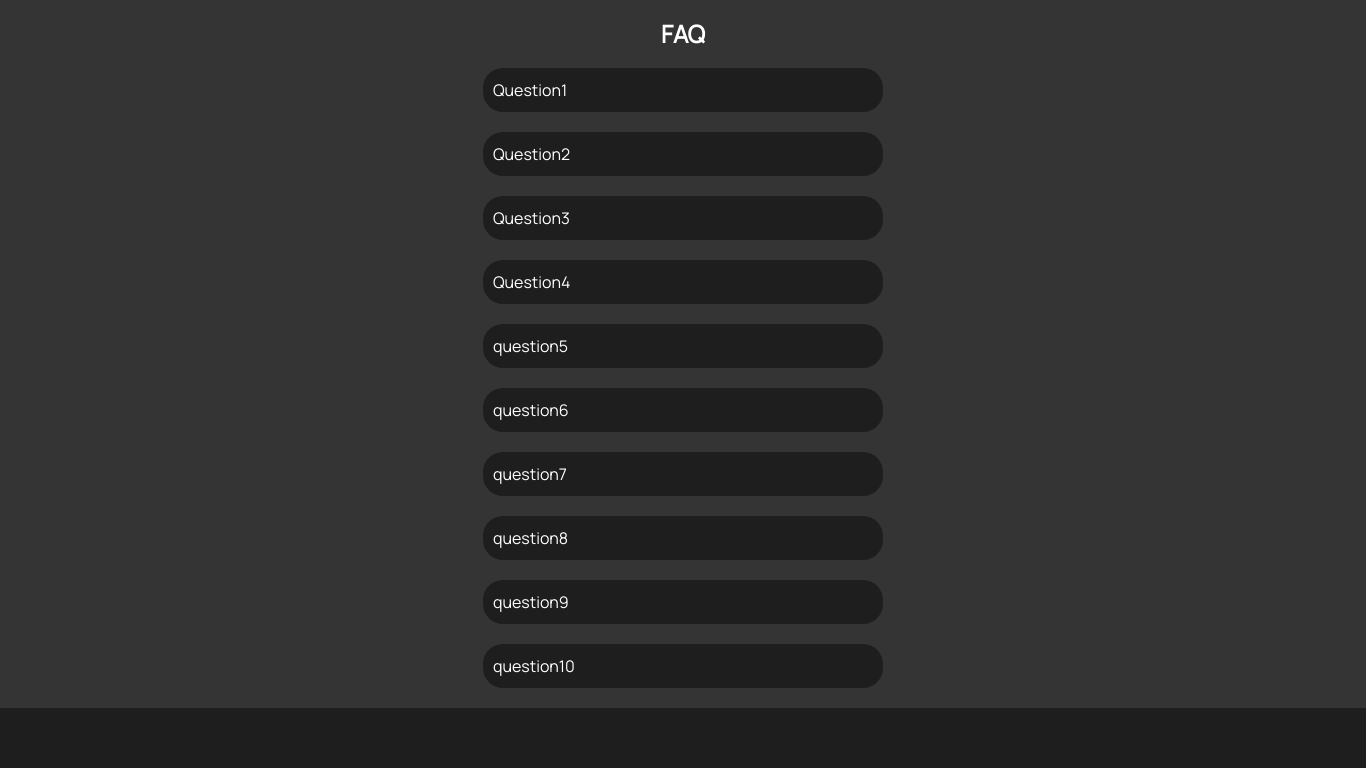
FAQ › toggles FAQ answers when clicking on questions
This screenshot has width=1366, height=768.
Check: the heading "FAQ" is shown, box [661,17,705,50]
Click the text "Question1" at (683, 90), box [483,68,883,112]
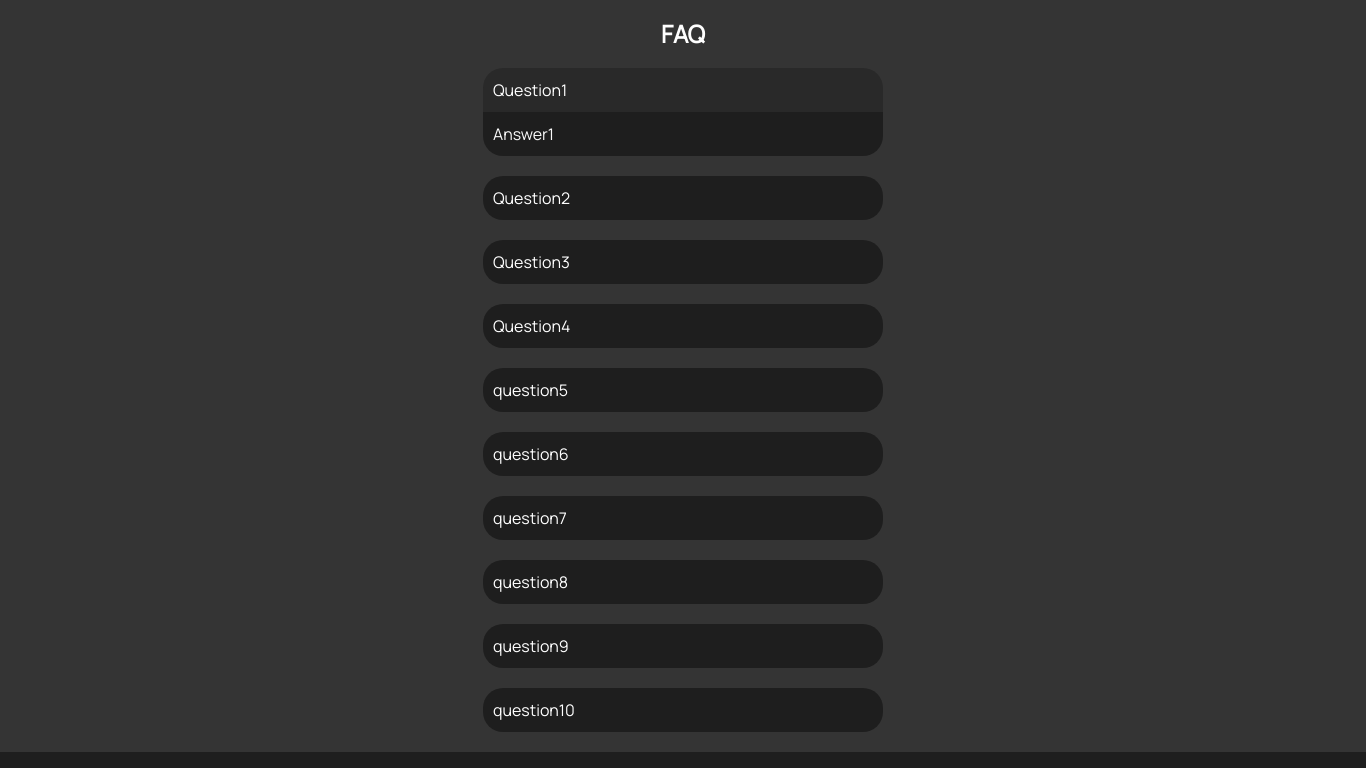
Check: the text "Answer1" is shown, box [493,123,554,145]
Click the text "Question2" at (683, 198), box [483,176,883,220]
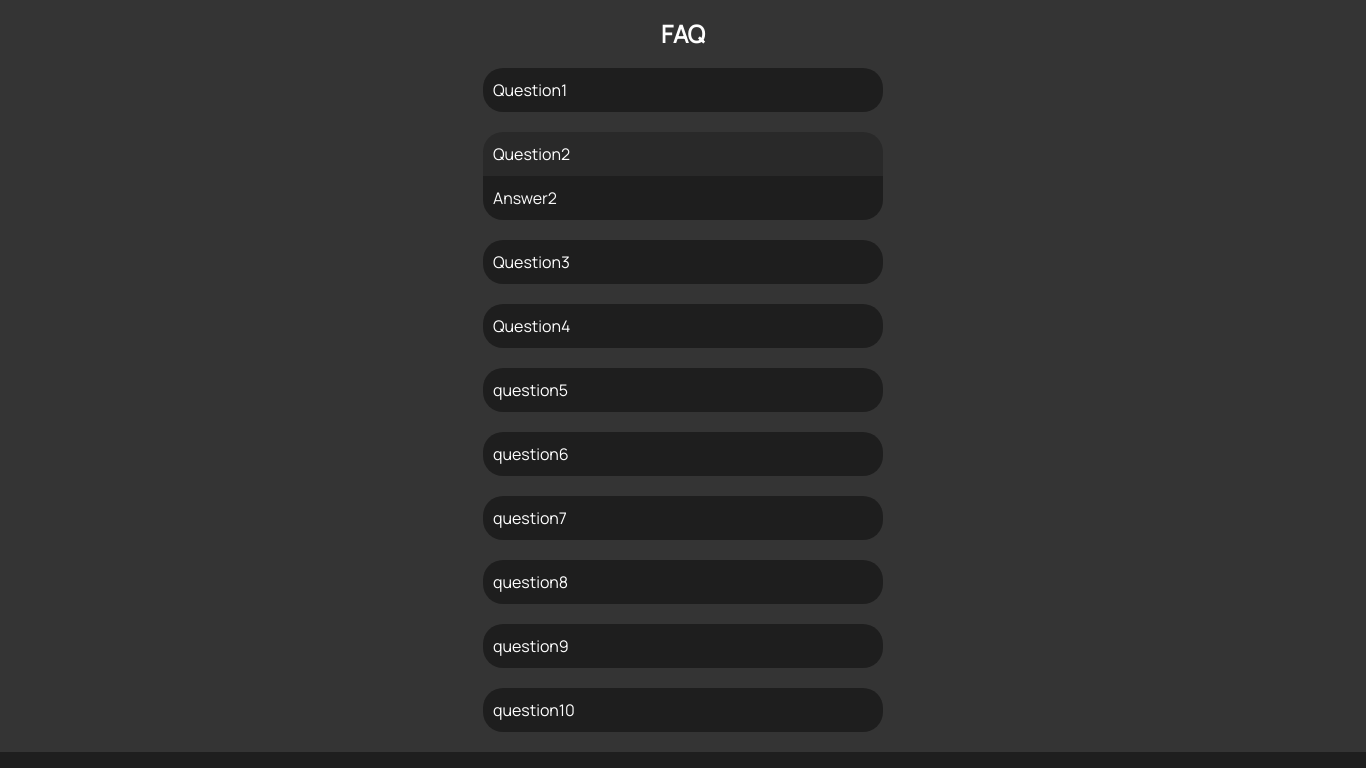
Check: the text "Answer2" is shown, box [493,187,557,209]
